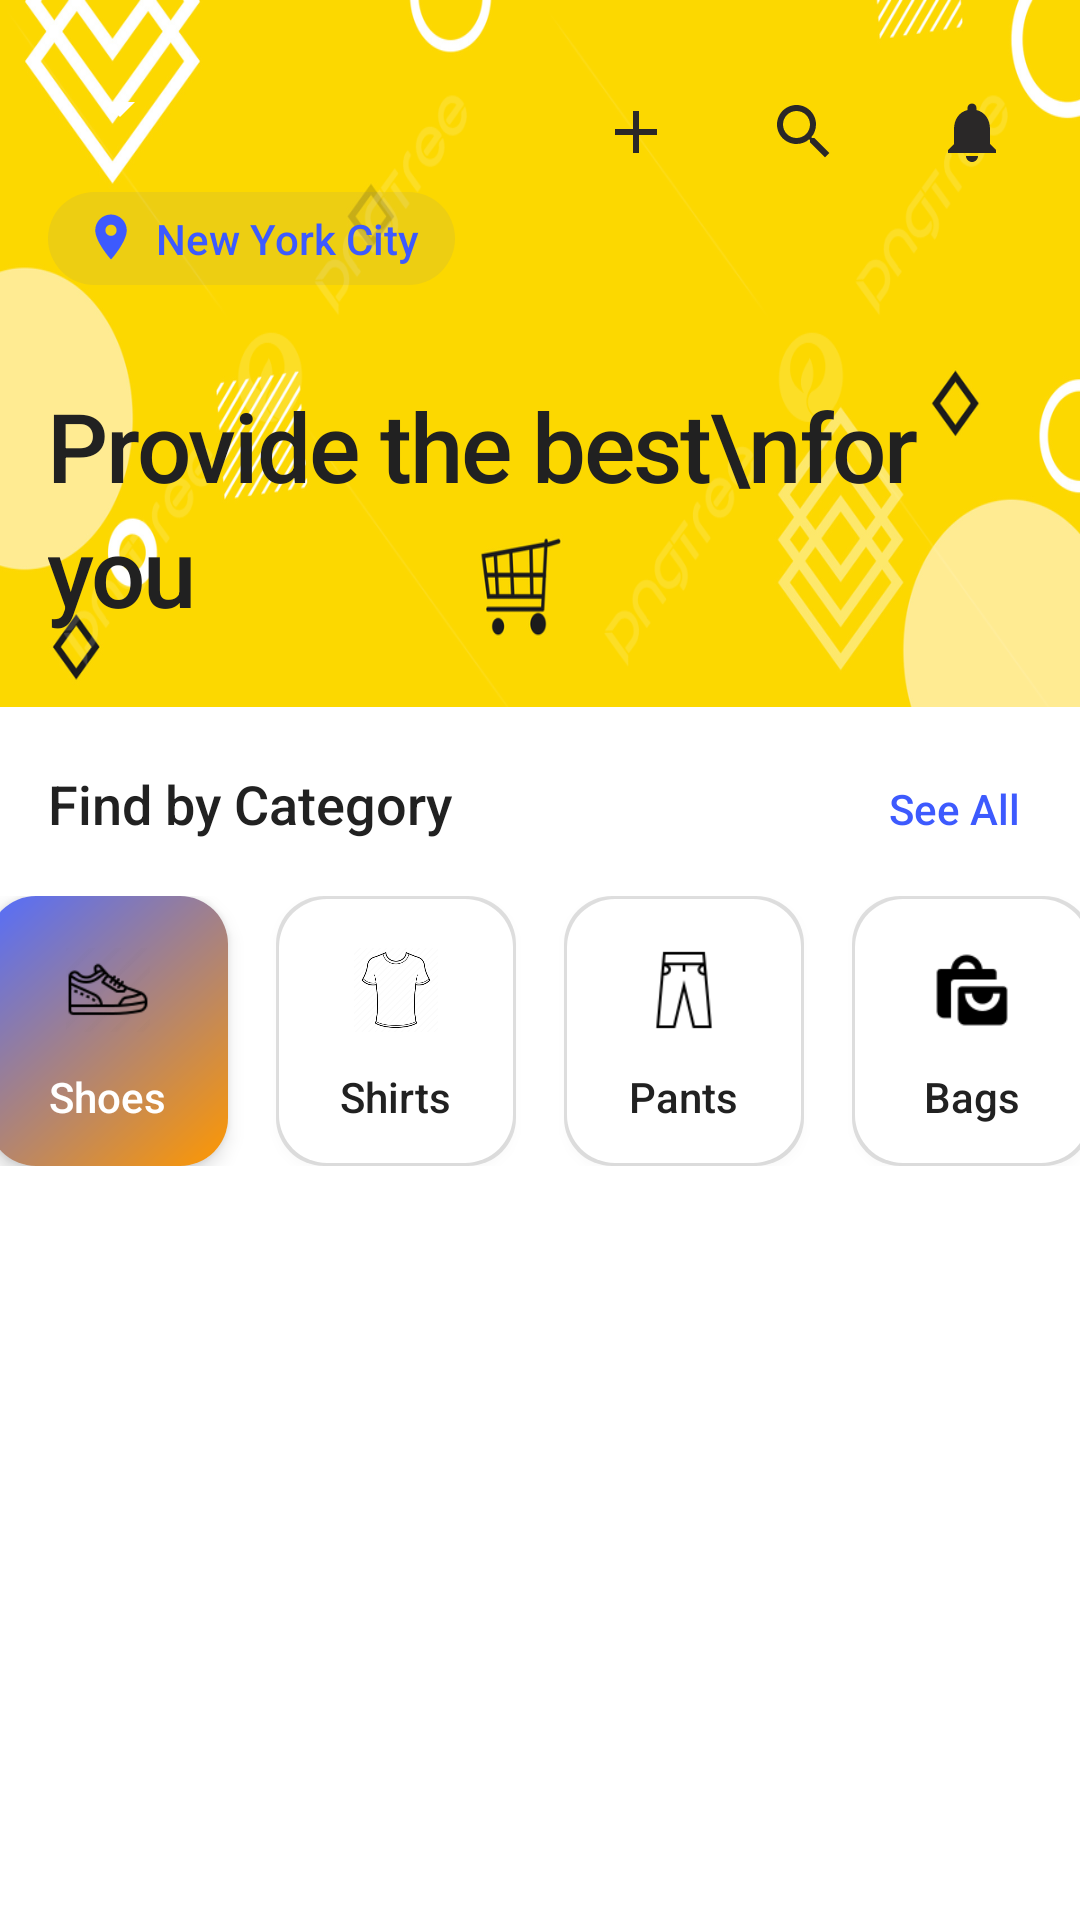

Icon click points for this 1080px x 1920px phone screenshot, format [x,y]:
add: [630,125]
location: [111,236]
notifications: [964,144]
search: [803,131]
